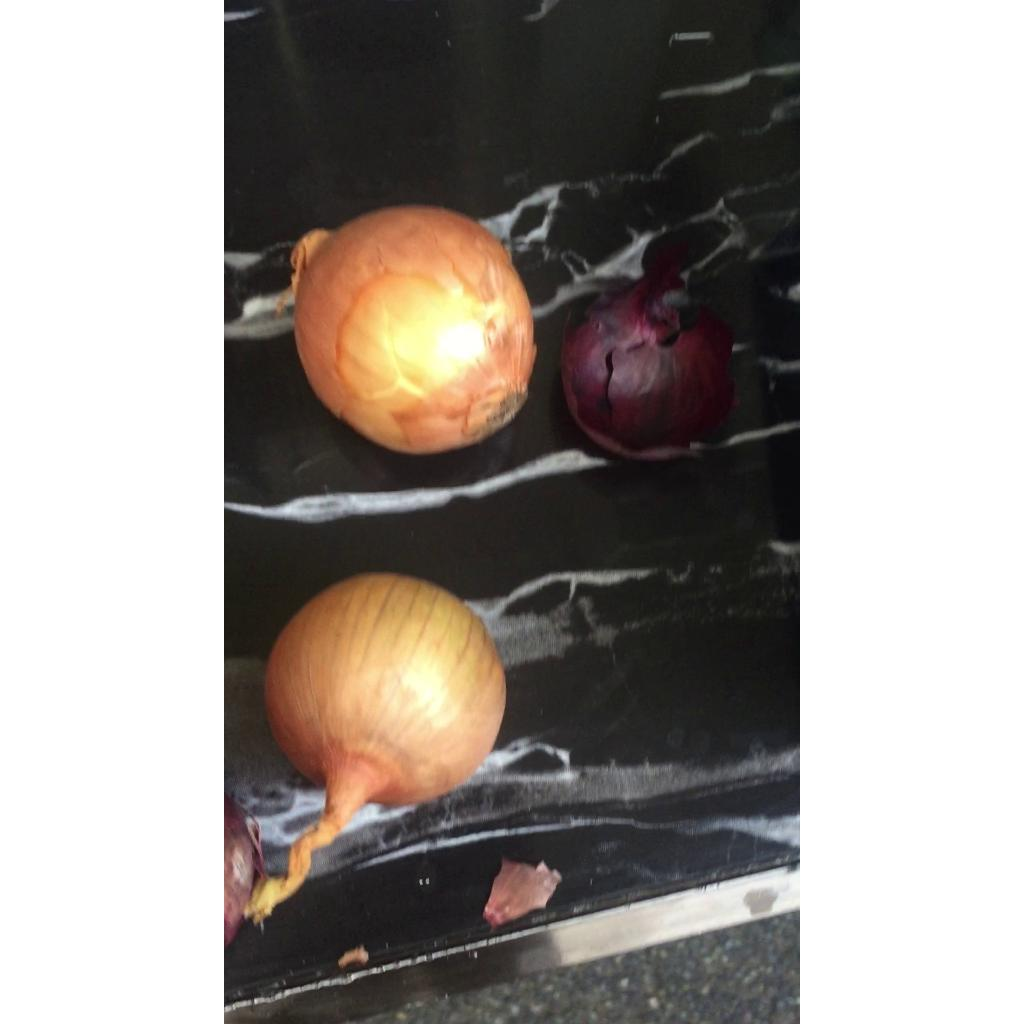Onion: (249, 574, 505, 917), (289, 205, 535, 454), (561, 242, 736, 461)
